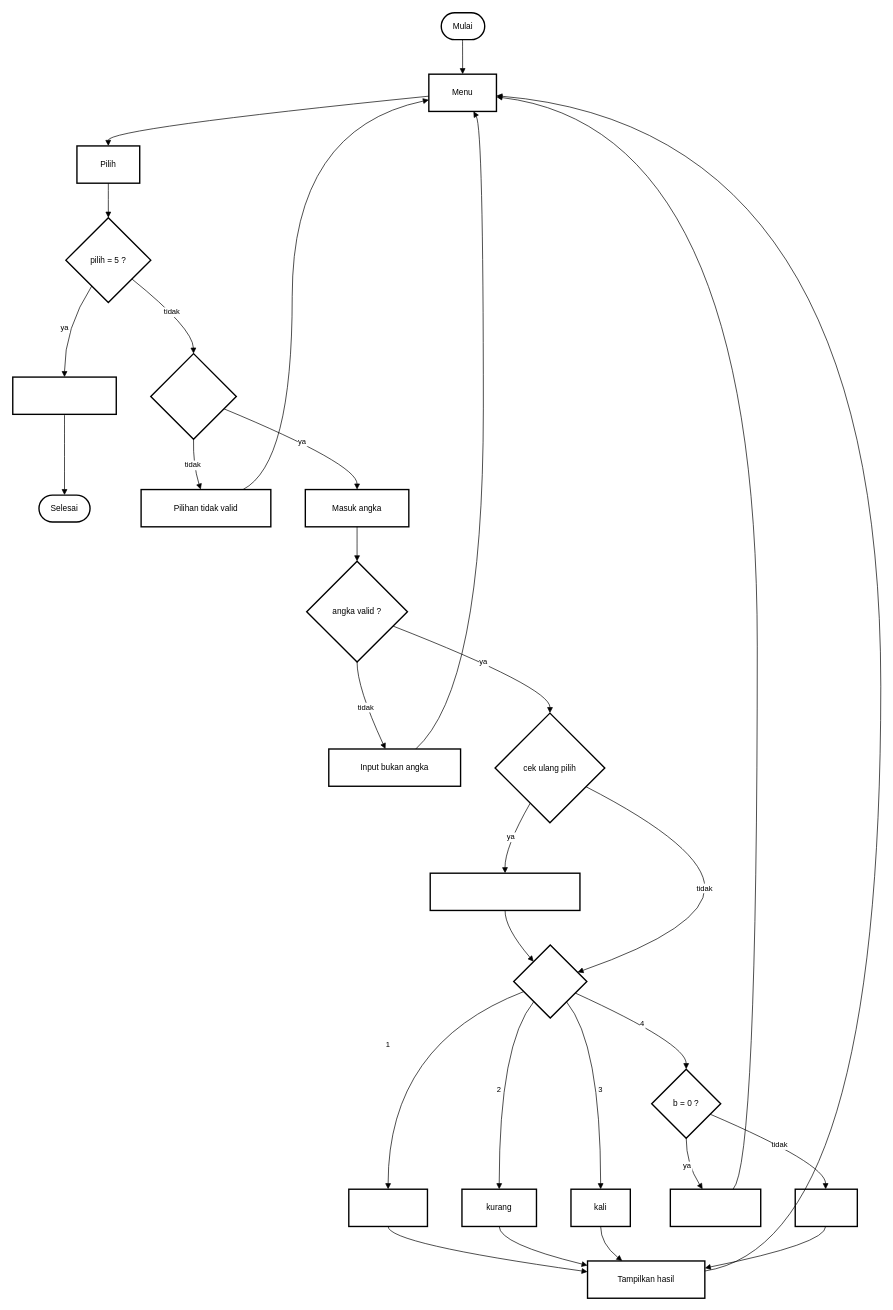
The diagram is 893 pixels wide and 1310 high, and some of its shapes have lost their labels. Each missing label, with the centre of its shape:
bagi: the point at 826,1207
Error bagi: the point at 715,1207
operasi: the point at 550,981
Pesan pilih tidak valid: the point at 504,891
pilih 1-4 ?: the point at 193,396
tambah: the point at 388,1207
Terima kasih: the point at 64,395
